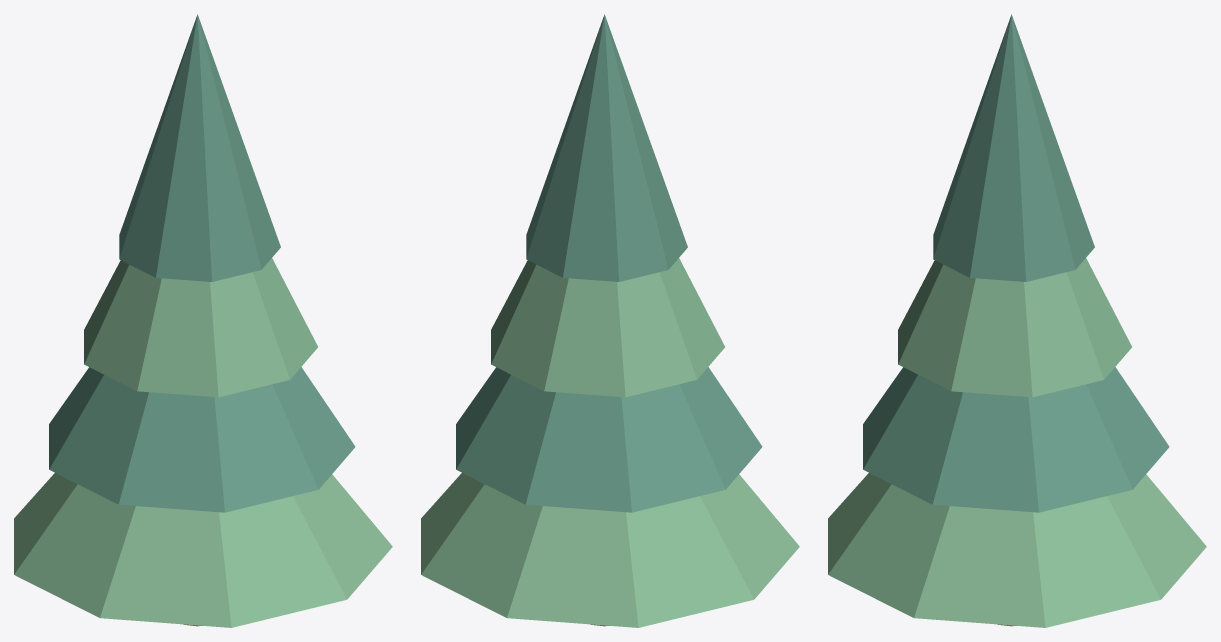
Rendered from pine.glb.
3 renders of one model, left to right at view 1: azimuth 30°, elevation 25°; view 2: azimuth 150°, elevation 25°; view 3: azimuth 270°, elevation 25°, orthographic.
Visible parts, largest first — view 1: pine_001, pine_002, pine_003, pine_004; view 2: pine_001, pine_002, pine_003, pine_004; view 3: pine_001, pine_002, pine_003, pine_004.
Boxes of the visible parts, box(x1,y1,x2,y2) form: pine_001: box(14, 473, 392, 627); pine_002: box(49, 367, 355, 512); pine_003: box(84, 258, 317, 397); pine_004: box(119, 14, 280, 281); pine_001: box(421, 473, 799, 627); pine_002: box(456, 367, 762, 512); pine_003: box(491, 258, 724, 397); pine_004: box(526, 14, 687, 281); pine_001: box(828, 473, 1206, 627); pine_002: box(863, 367, 1169, 512); pine_003: box(898, 258, 1131, 397); pine_004: box(933, 14, 1094, 281).
Size of the model in its own units: 2.17 by 3.74 by 2.13.
